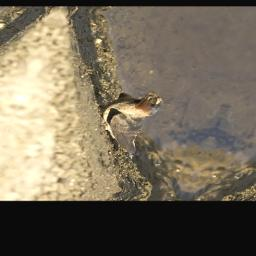Swallow: (84, 86, 168, 158)
